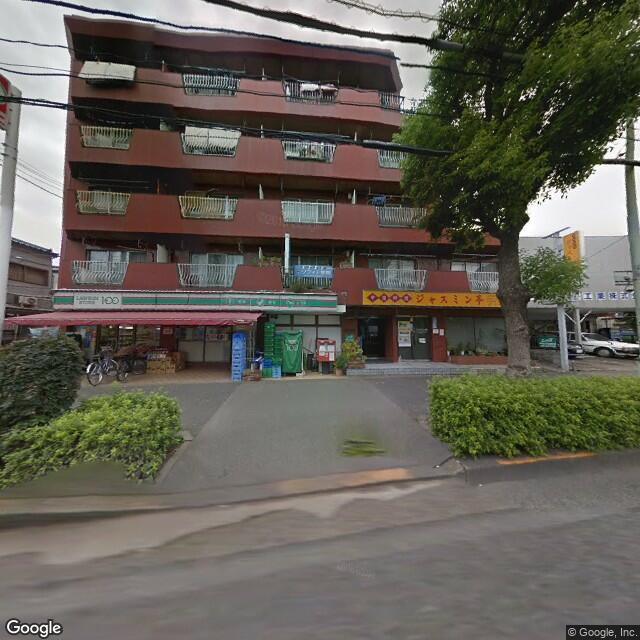lawson: (50, 284, 341, 314)
